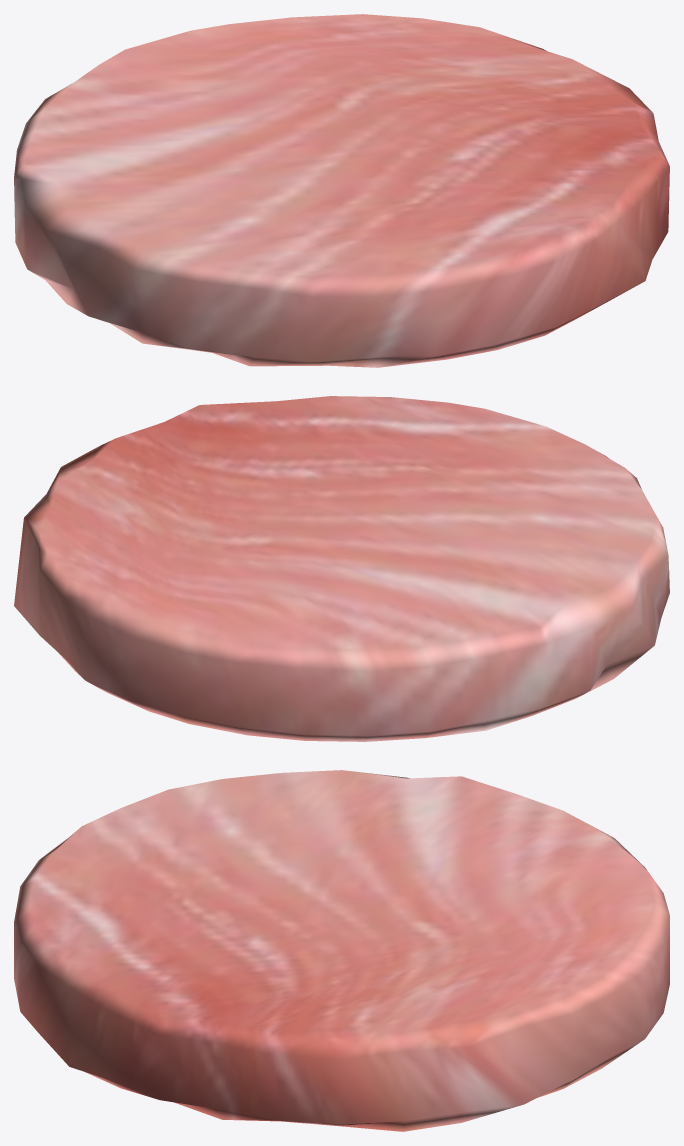
The model's file is ChickenPattyUncooked.fbx.
3 views of the same model, one above another, from view 1: azimuth 30°, elevation 25°; view 2: azimuth 150°, elevation 25°; view 3: azimuth 270°, elevation 25° (orthographic). The views are drawn at different scales.
Visible parts, largest first — view 1: ChickenPattyUncooked; view 2: ChickenPattyUncooked; view 3: ChickenPattyUncooked.
Boxes of the visible parts, bbox=[...] form: ChickenPattyUncooked: bbox=[14, 14, 669, 367]; ChickenPattyUncooked: bbox=[14, 396, 669, 741]; ChickenPattyUncooked: bbox=[14, 770, 669, 1131].
Size of the model in its own units: 396 by 59.95 by 382.
